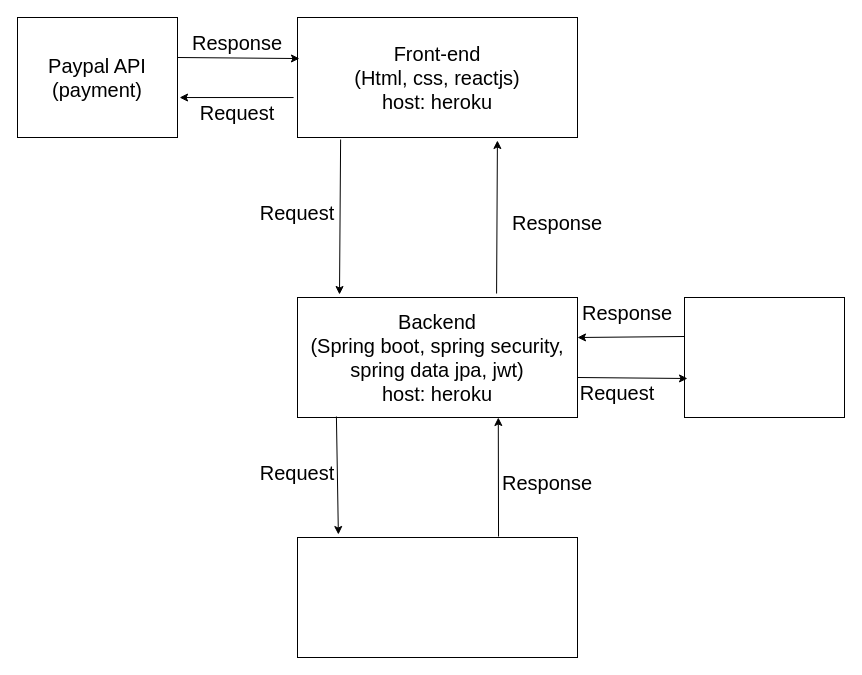
This 862x675 diagram has some shape labels left out. The shapes that lost their labels are listed below. From the top down, each one's box as (x1, y1, x2, y2) in pixels, then its label:
(684, 296, 844, 418): Google API (upload image, send email)
(296, 536, 578, 658): Database (mysql) host: clever cloud
